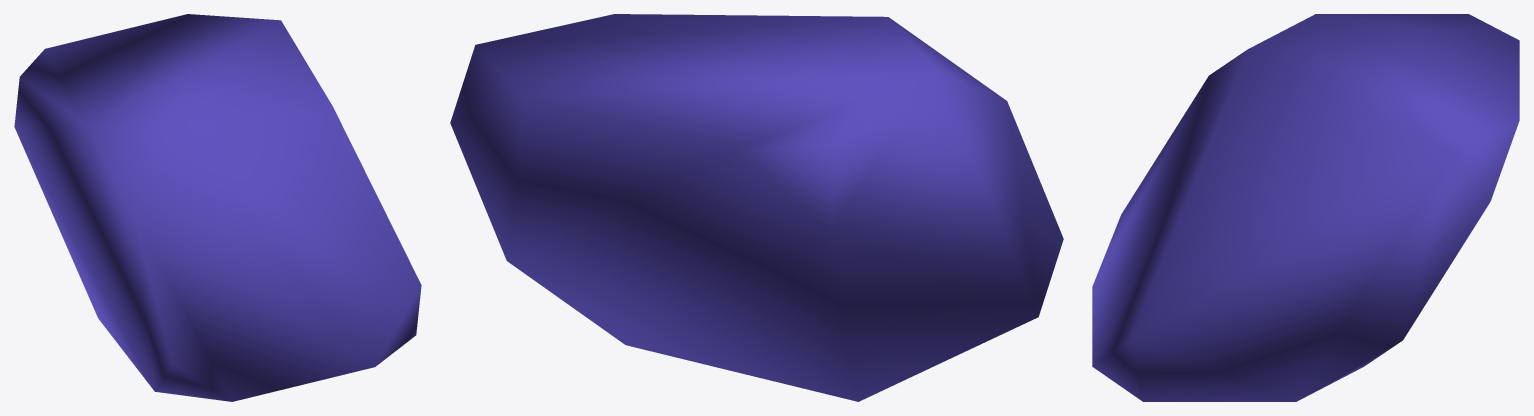
The picture shows the model from 3 angles, left to right: view 1: azimuth 30°, elevation 25°; view 2: azimuth 150°, elevation 25°; view 3: azimuth 270°, elevation 25°; orthographic projection. The views are drawn at different scales.
Visible parts, largest first — view 1: SM_BO_OreNode_Tin_Fragment_LOD0; view 2: SM_BO_OreNode_Tin_Fragment_LOD0; view 3: SM_BO_OreNode_Tin_Fragment_LOD0.
Boxes of the visible parts, x1=… form: SM_BO_OreNode_Tin_Fragment_LOD0: x1=14, y1=14, x2=421, y2=401; SM_BO_OreNode_Tin_Fragment_LOD0: x1=450, y1=14, x2=1063, y2=401; SM_BO_OreNode_Tin_Fragment_LOD0: x1=1092, y1=14, x2=1519, y2=401.
Size of the model in its own units: 0.1662 by 0.1351 by 0.2123.
